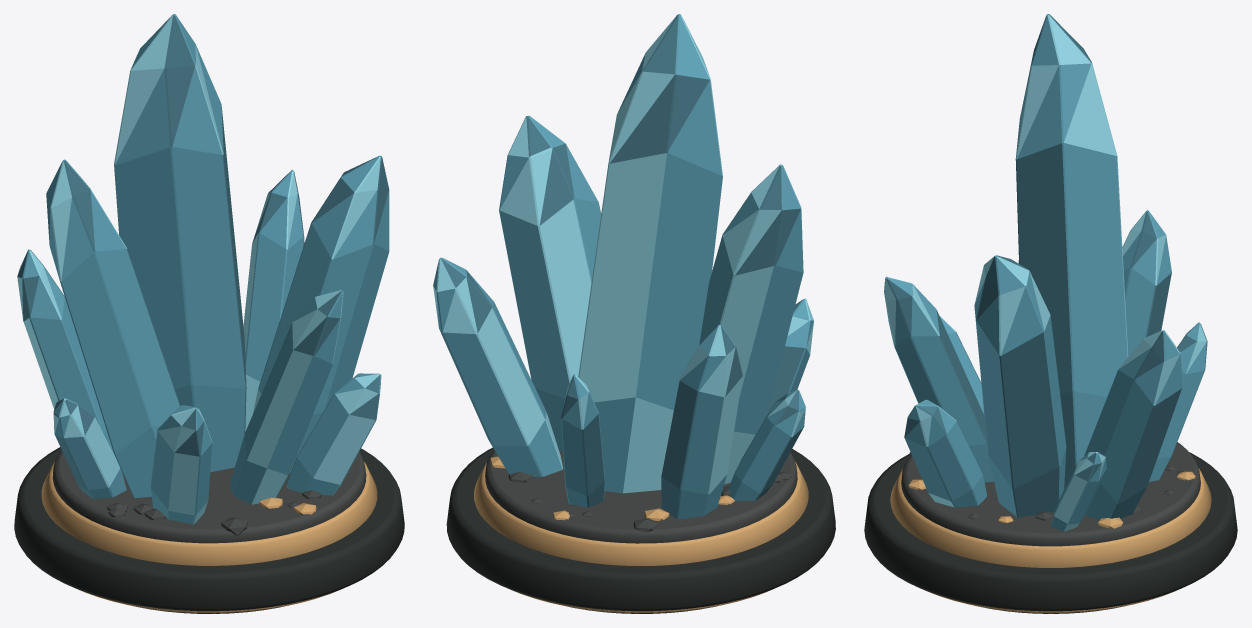
The model's file is crystal.glb.
3 views of the same model, side by side, from view 1: azimuth 30°, elevation 25°; view 2: azimuth 150°, elevation 25°; view 3: azimuth 270°, elevation 25° (orthographic). The views are drawn at different scales.
Visible parts, largest first — view 1: Individual cut crystal 01, Honed pedestal.002, Individual cut crystal 02, Individual cut crystal 03, Individual cut crystal 06, Inset host basalt disc, Bronze bezel around host matrix, Individual cut crystal 04, Individual cut crystal 05, Individual cut crystal 08, Individual cut crystal 07, Individual cut crystal 10 (+2 smaller); view 2: Individual cut crystal 01, Honed pedestal.002, Individual cut crystal 03, Individual cut crystal 02, Individual cut crystal 04, Inset host basalt disc, Individual cut crystal 05, Bronze bezel around host matrix, Individual cut crystal 09, Individual cut crystal 10, Individual cut crystal 07, Small mineral inclusions around the cluster; view 3: Individual cut crystal 01, Honed pedestal.002, Individual cut crystal 03, Individual cut crystal 04, Inset host basalt disc, Individual cut crystal 06, Bronze bezel around host matrix, Individual cut crystal 08, Individual cut crystal 05, Individual cut crystal 09, Individual cut crystal 11, Small mineral inclusions around the cluster (+1 smaller).
Part boxes in pixels (<box>): Individual cut crystal 01: <box>114,14,246,472</box>; Honed pedestal.002: <box>14,447,404,611</box>; Individual cut crystal 02: <box>46,159,180,497</box>; Individual cut crystal 03: <box>253,155,389,473</box>; Individual cut crystal 06: <box>229,290,343,504</box>; Inset host basalt disc: <box>52,449,366,543</box>; Bronze bezel around host matrix: <box>41,461,377,565</box>; Individual cut crystal 04: <box>243,169,304,431</box>; Individual cut crystal 05: <box>17,249,113,452</box>; Individual cut crystal 08: <box>286,373,381,495</box>; Individual cut crystal 07: <box>150,405,212,524</box>; Individual cut crystal 10: <box>53,398,126,498</box>; Individual cut crystal 01: <box>578,14,722,493</box>; Honed pedestal.002: <box>446,447,835,611</box>; Individual cut crystal 03: <box>499,115,601,452</box>; Individual cut crystal 02: <box>699,164,803,484</box>; Individual cut crystal 04: <box>433,257,563,476</box>; Inset host basalt disc: <box>485,449,797,543</box>; Individual cut crystal 05: <box>661,324,742,519</box>; Bronze bezel around host matrix: <box>474,461,808,565</box>; Individual cut crystal 09: <box>561,374,604,507</box>; Individual cut crystal 10: <box>728,389,805,500</box>; Individual cut crystal 07: <box>768,298,813,413</box>; Small mineral inclusions around the cluster: <box>490,456,792,531</box>; Individual cut crystal 01: <box>1015,14,1128,488</box>; Honed pedestal.002: <box>864,452,1237,611</box>; Individual cut crystal 03: <box>974,255,1066,517</box>; Individual cut crystal 04: <box>1084,330,1182,519</box>; Inset host basalt disc: <box>901,442,1200,546</box>; Individual cut crystal 06: <box>884,276,993,482</box>; Bronze bezel around host matrix: <box>890,468,1211,567</box>; Individual cut crystal 08: <box>904,399,986,507</box>; Individual cut crystal 05: <box>1122,210,1171,356</box>; Individual cut crystal 09: <box>1149,322,1207,481</box>; Individual cut crystal 11: <box>1050,452,1106,531</box>; Small mineral inclusions around the cluster: <box>908,442,1195,528</box>.
Size of the model in its own units: 0.746 by 1.14 by 0.746.
